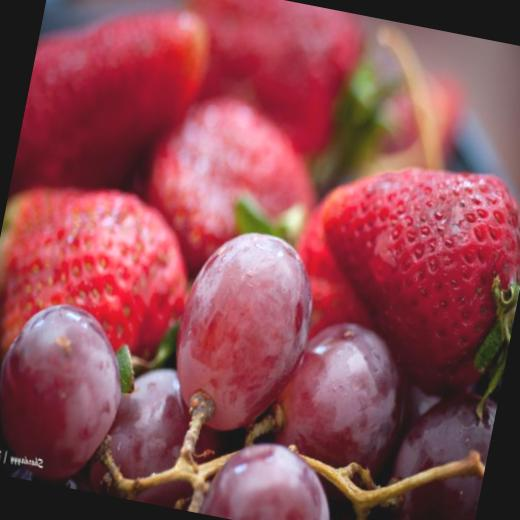Orange: (158, 216, 328, 443), (256, 311, 414, 514), (0, 291, 137, 493), (81, 349, 225, 512), (380, 379, 498, 520), (200, 428, 345, 520)
